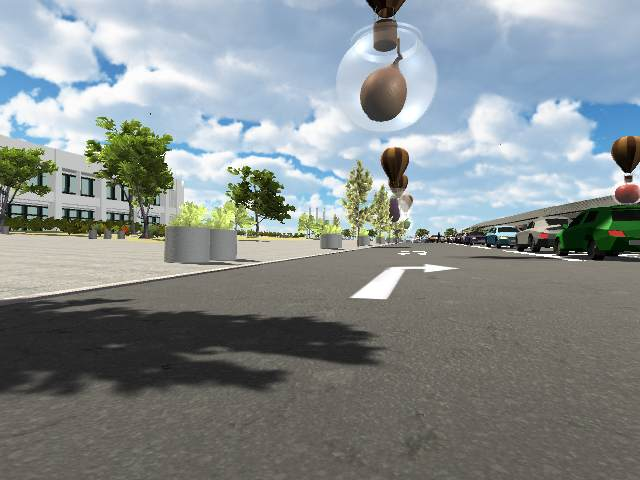ground_right: (377, 260, 464, 276)
